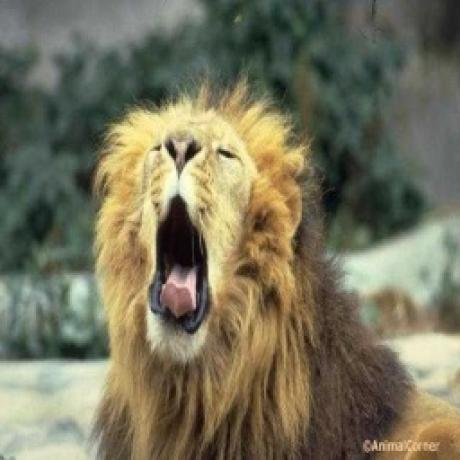Lion: (93, 82, 459, 460)
